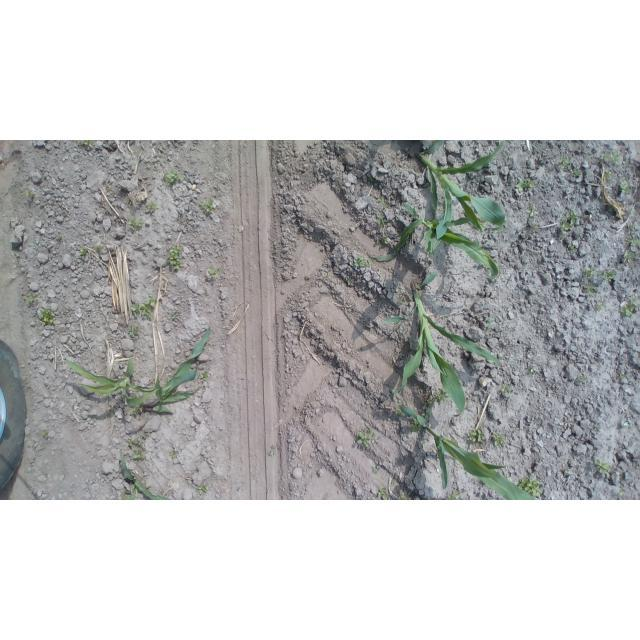Maize: (381, 272, 502, 414), (396, 402, 536, 500), (64, 327, 210, 416), (366, 202, 500, 281), (414, 140, 507, 238), (119, 454, 172, 500)
Weeds: (129, 293, 155, 321), (517, 475, 543, 497), (356, 424, 376, 449), (168, 244, 185, 271), (427, 388, 449, 408), (620, 295, 640, 317), (161, 168, 185, 186), (128, 438, 145, 460), (560, 212, 576, 233), (40, 307, 57, 325), (128, 214, 145, 231), (467, 428, 486, 443), (515, 179, 534, 193), (22, 292, 38, 308), (601, 268, 618, 283), (199, 197, 214, 213), (624, 250, 640, 265), (420, 403, 432, 422), (620, 176, 632, 195), (595, 460, 612, 473), (353, 255, 371, 267), (603, 152, 621, 164), (206, 267, 221, 280), (624, 235, 640, 247), (75, 140, 96, 149), (446, 489, 463, 500), (411, 420, 425, 433), (584, 283, 598, 296), (583, 266, 597, 278), (128, 324, 141, 336), (145, 202, 159, 213), (378, 486, 389, 500), (493, 432, 505, 444), (378, 218, 391, 229), (377, 197, 390, 208), (129, 404, 143, 414), (196, 484, 208, 495), (22, 188, 36, 197), (79, 245, 87, 260), (200, 368, 210, 380), (486, 318, 495, 331), (595, 299, 605, 310), (527, 207, 537, 218), (376, 236, 388, 245), (560, 155, 569, 167), (171, 307, 178, 321), (500, 385, 510, 394), (394, 403, 402, 414), (399, 492, 410, 500), (400, 293, 409, 302), (602, 171, 612, 179), (268, 446, 276, 456), (529, 363, 537, 373), (571, 169, 582, 176), (323, 272, 331, 281), (42, 429, 48, 440), (141, 432, 149, 440), (616, 489, 624, 496), (368, 176, 376, 183), (570, 246, 578, 253), (93, 245, 102, 251), (620, 373, 629, 379), (170, 451, 177, 458), (578, 375, 585, 382), (562, 467, 568, 473), (345, 278, 351, 284), (373, 468, 379, 474), (533, 224, 537, 233), (559, 235, 567, 239), (631, 225, 636, 231), (596, 427, 601, 432), (621, 426, 628, 429), (317, 232, 321, 236)
